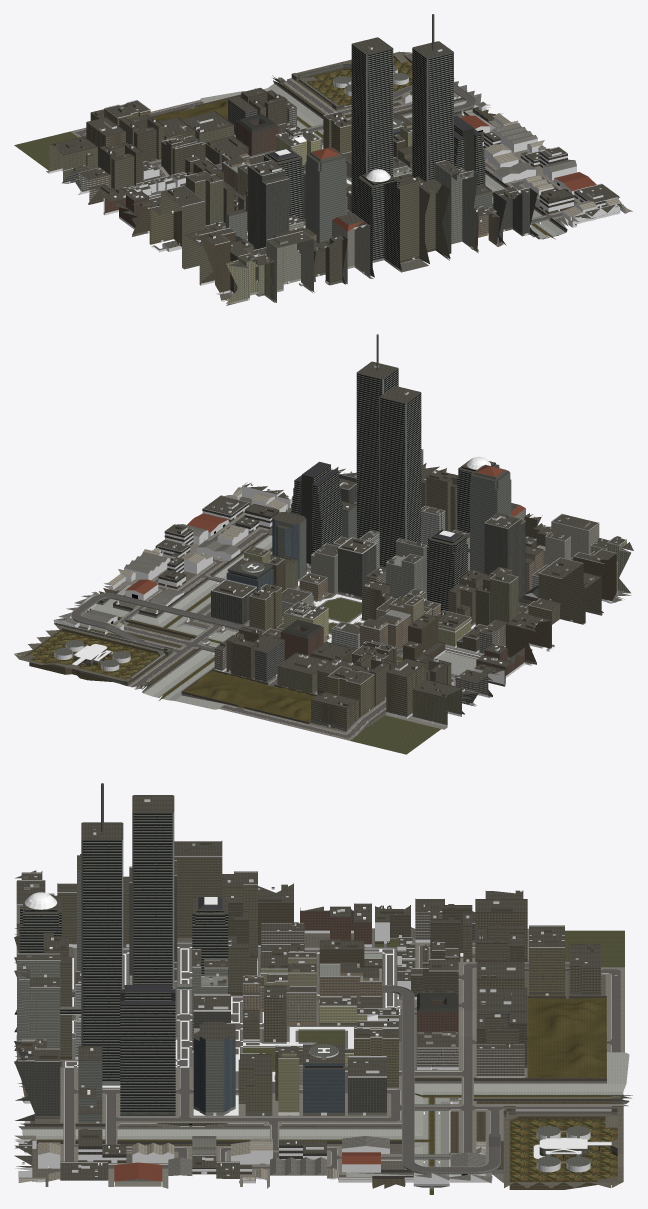
File: city2.glb
The picture shows the model from 3 angles, top to bottom: view 1: azimuth 30°, elevation 25°; view 2: azimuth 150°, elevation 25°; view 3: azimuth 270°, elevation 25°; orthographic projection. The views are drawn at different scales.
Parts seen in each view (by area): view 1: Object_105, Object_35, Object_27, Object_70, Object_11, Object_23, Object_60, Object_91, Object_22, Object_94, Object_71, Object_26 (+38 smaller); view 2: Object_105, Object_35, Object_27, Object_70, Object_94, Object_23, Object_22, Object_91, Object_41, Object_26, Object_8, Object_75 (+45 smaller); view 3: Object_105, Object_35, Object_8, Object_27, Object_41, Object_39, Object_75, Object_38, Object_94, Object_91, Object_49, Object_71 (+48 smaller).
Part boxes in pixels (box(x1,y1,x2,y2)): Object_105: box(49, 37, 622, 268); Object_35: box(264, 44, 485, 277); Object_27: box(75, 91, 450, 282); Object_70: box(248, 166, 537, 249); Object_11: box(89, 97, 410, 283); Object_23: box(305, 152, 492, 242); Object_60: box(266, 160, 370, 300); Object_91: box(68, 78, 625, 294); Object_22: box(49, 123, 412, 255); Object_94: box(88, 47, 624, 300); Object_71: box(303, 163, 478, 253); Object_26: box(132, 124, 512, 292); Object_105: box(156, 361, 633, 708); Object_35: box(290, 369, 499, 611); Object_27: box(226, 464, 601, 703); Object_70: box(334, 467, 525, 597); Object_94: box(54, 456, 617, 723); Object_23: box(275, 470, 511, 578); Object_22: box(277, 556, 603, 724); Object_91: box(53, 482, 611, 727); Object_41: box(87, 535, 272, 709); Object_26: box(220, 481, 616, 693); Object_8: box(79, 512, 447, 740); Object_75: box(183, 671, 314, 721); Object_105: box(14, 795, 600, 1180); Object_35: box(14, 813, 228, 1115); Object_8: box(60, 928, 628, 1188); Object_27: box(14, 856, 524, 1063); Object_41: box(21, 1052, 629, 1187); Object_39: box(66, 944, 620, 1176); Object_75: box(527, 998, 606, 1077); Object_38: box(65, 946, 620, 1176); Object_94: box(15, 832, 611, 1182); Object_91: box(14, 940, 548, 1185); Object_49: box(509, 1119, 617, 1181); Object_71: box(17, 961, 227, 1059).
Size of the model in its own units: 284 by 152 by 284.
Materials: 81 (79 with a texture image).
